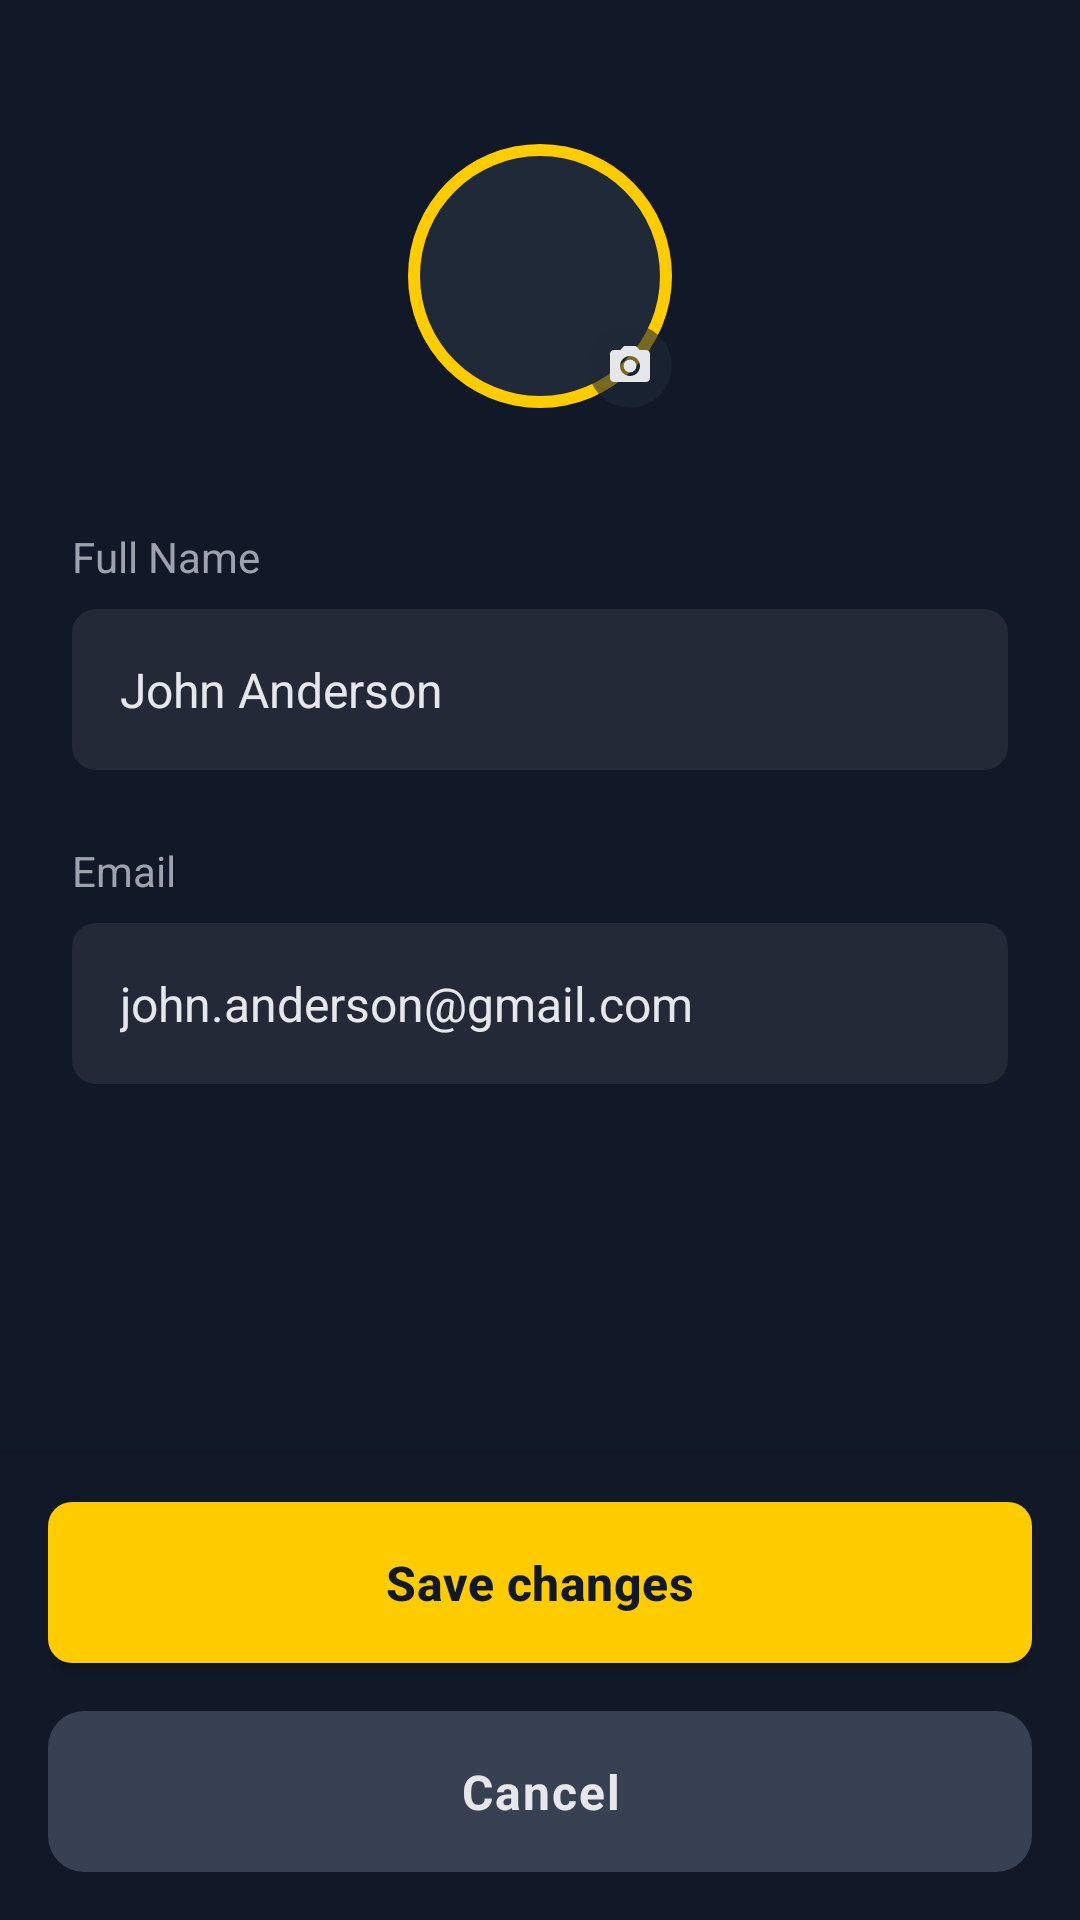

Screen size 1080*1920. Icon name, then its box in pixels as [x1,y1,x2,y2]:
Change profile picture: [588,324,672,408]
